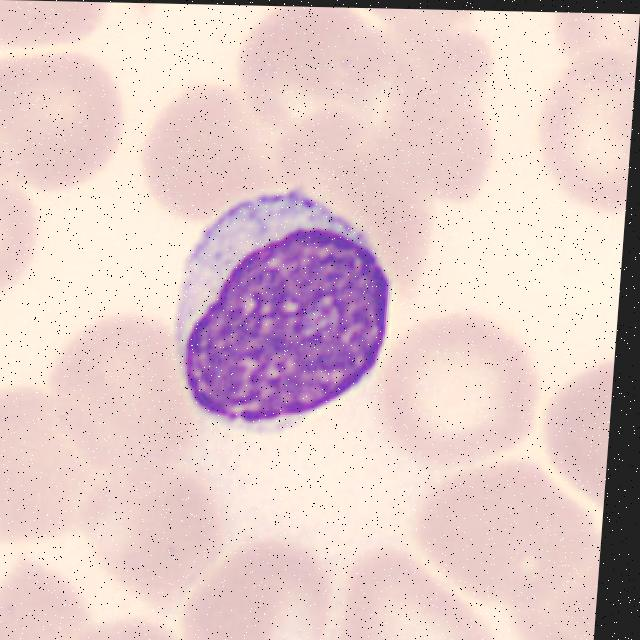lymphocyte: (168, 196, 396, 436)
rbc: (409, 445, 596, 595), (378, 319, 542, 470), (44, 317, 211, 462), (136, 81, 289, 221), (342, 69, 496, 206), (0, 382, 112, 568), (83, 461, 229, 596), (222, 5, 382, 124), (313, 152, 440, 290), (523, 57, 637, 210), (0, 49, 123, 190), (334, 535, 496, 640), (193, 542, 352, 640), (337, 18, 485, 108), (258, 103, 377, 209), (502, 519, 602, 640), (535, 367, 614, 510), (0, 544, 88, 640), (543, 12, 640, 93), (0, 152, 46, 303), (314, 7, 477, 35), (0, 0, 108, 41), (64, 612, 195, 640), (82, 2, 174, 25), (0, 468, 5, 640)
